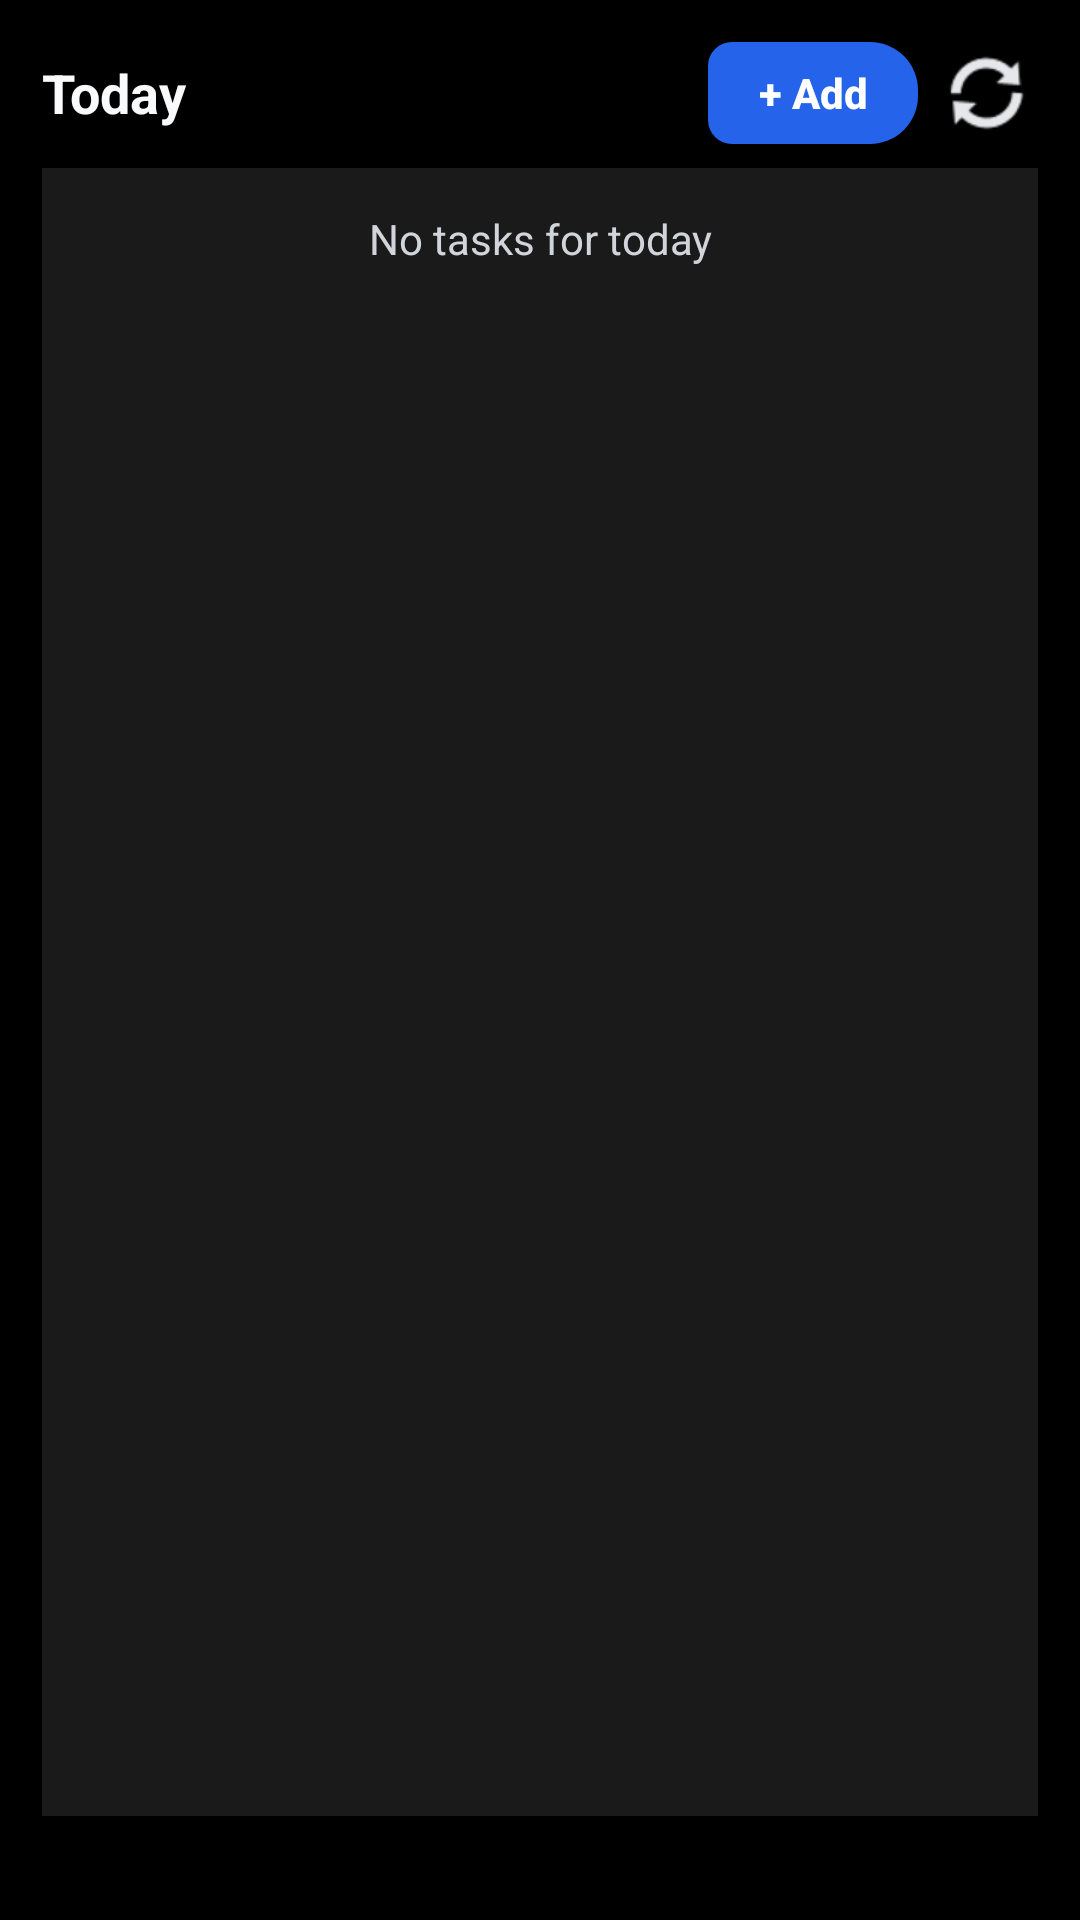

Point at icon controls on the screen. Image size 1080px x 1920px, points as (x=x, y=y).
Refresh: (x=987, y=93)
